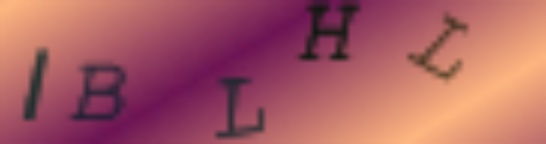B: (69, 62, 130, 124)
H: (295, 1, 370, 62)
I: (19, 44, 51, 125)
L: (408, 12, 472, 84), (212, 75, 272, 140)
